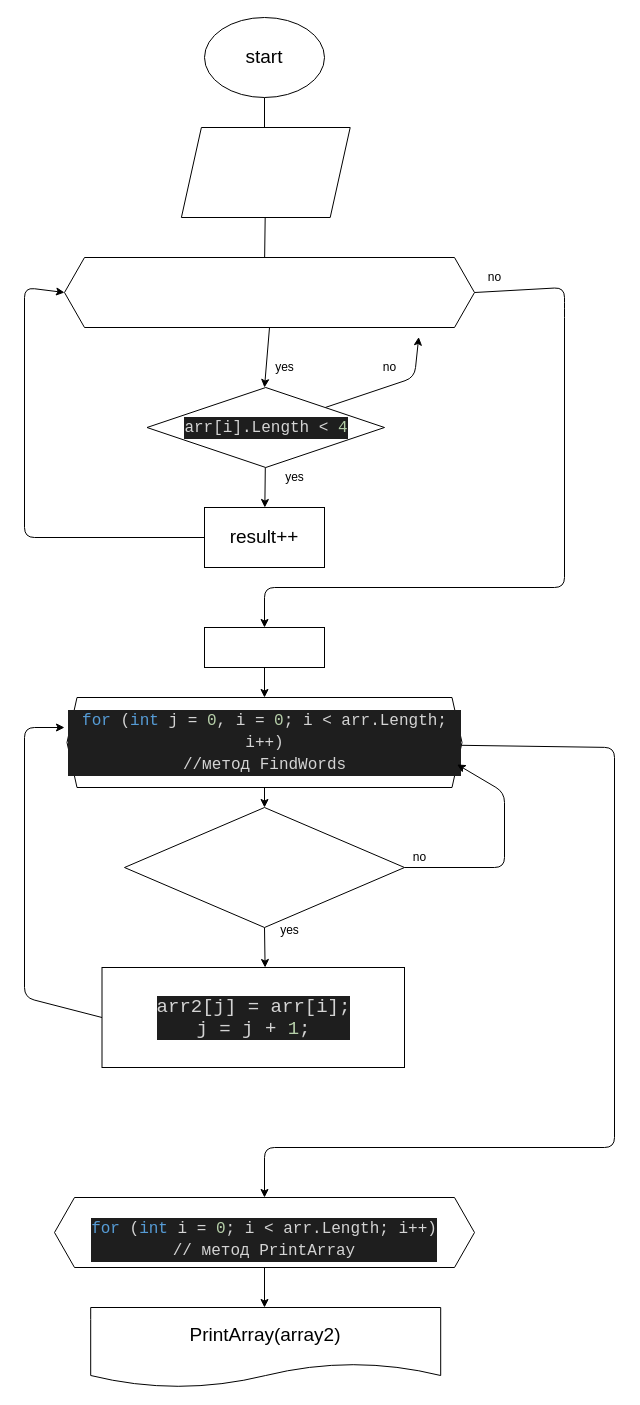
Some shapes in this 640 by 1405 pixel diagram are drawn without their labels. The centre of each missing label's shape, as x and y in pixels:
array1[] result=0 array2[]: pixel 265 172
array2[result]: pixel 264 647
for (i =0, i<array.length, i++) //метод "FindLeghth: pixel 269 292
if (arr[i].Length < 4 ): pixel 264 867
